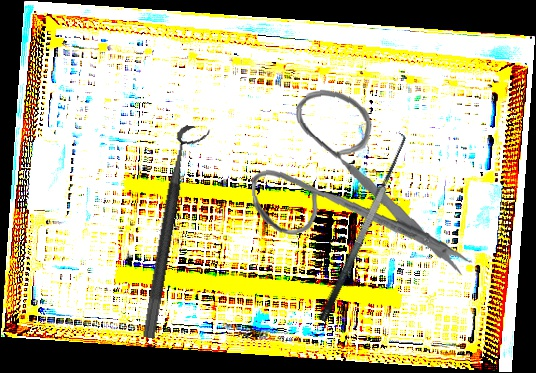Fixation Ring: (141, 123, 211, 343)
Iris Scissors: (245, 78, 474, 293)
Spatula Surgical: (302, 128, 417, 324)
